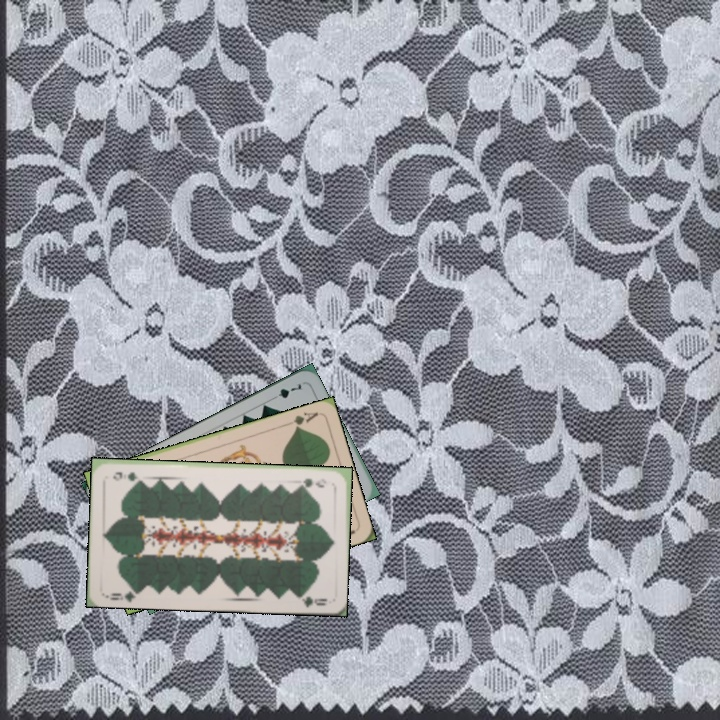G7: (267, 377, 304, 403)
G9: (102, 584, 142, 603), (294, 474, 329, 490)
GA: (282, 408, 321, 432)
